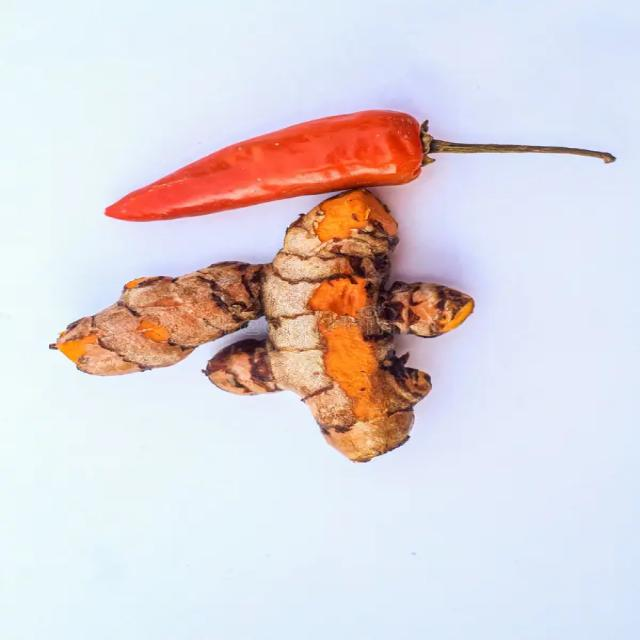turmeric: (248, 207, 486, 443), (42, 250, 274, 399)
